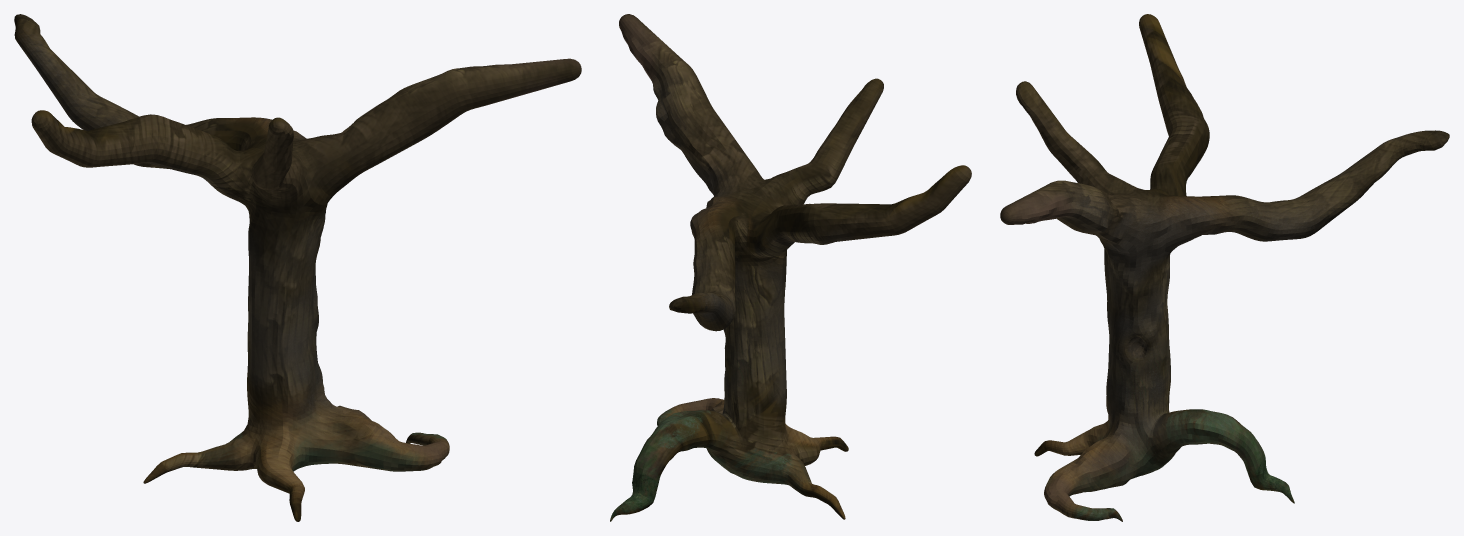
The model's file is arbol1.fbx.
3 renders of one model, left to right at view 1: azimuth 30°, elevation 25°; view 2: azimuth 150°, elevation 25°; view 3: azimuth 270°, elevation 25°, orthographic. The views are drawn at different scales.
Visible parts, largest first — view 1: low; view 2: low; view 3: low.
Boxes of the visible parts, x1,y1,x2,y2 form: low: (14,14,581,521); low: (610,14,971,521); low: (1000,14,1449,521).
Size of the model in its own units: 1036 by 878 by 985.
